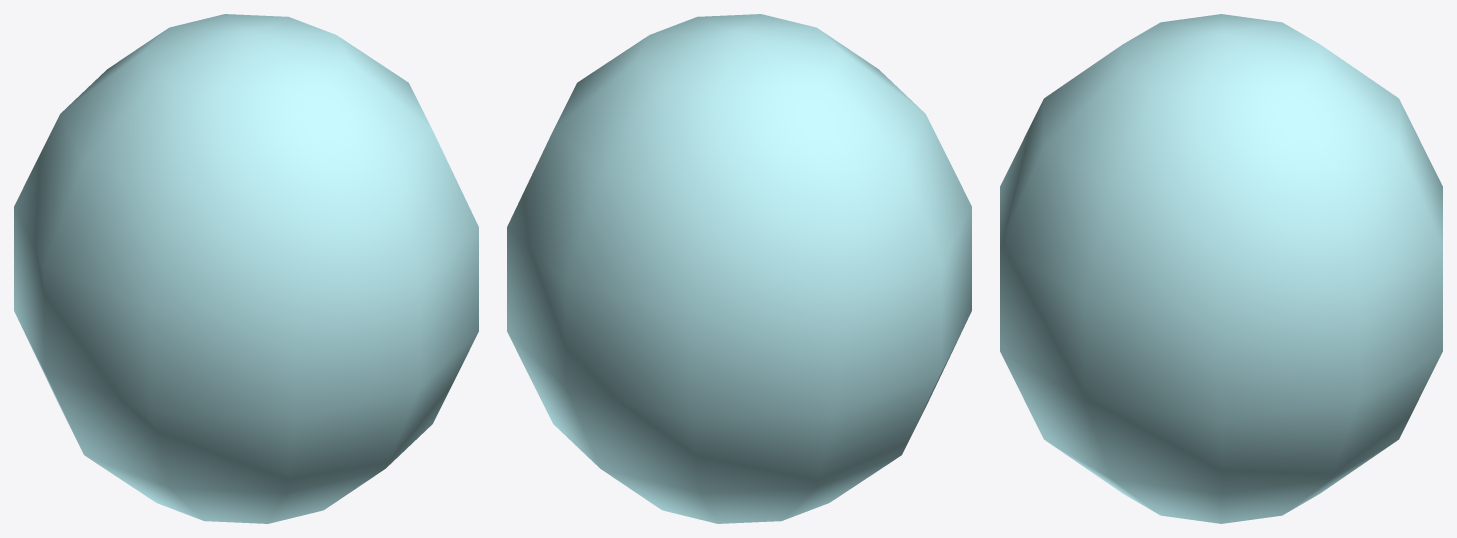
Rendered from item-soul-wisp.glb.
3 renders of one model, left to right at view 1: azimuth 30°, elevation 25°; view 2: azimuth 150°, elevation 25°; view 3: azimuth 270°, elevation 25°, orthographic.
Bounding box in the file's own units: 0.117 × 0.13 × 0.1113.
